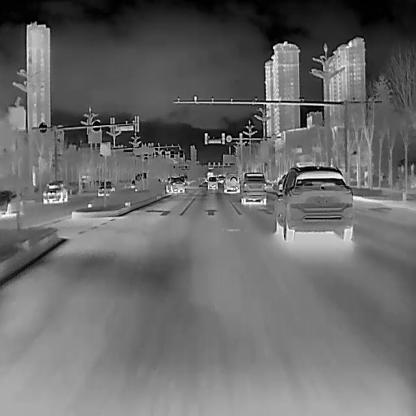car: (273, 165, 352, 240), (239, 172, 265, 203), (42, 179, 67, 203), (0, 189, 23, 214), (222, 173, 240, 194), (97, 180, 114, 195), (166, 178, 184, 192), (207, 176, 217, 190)
